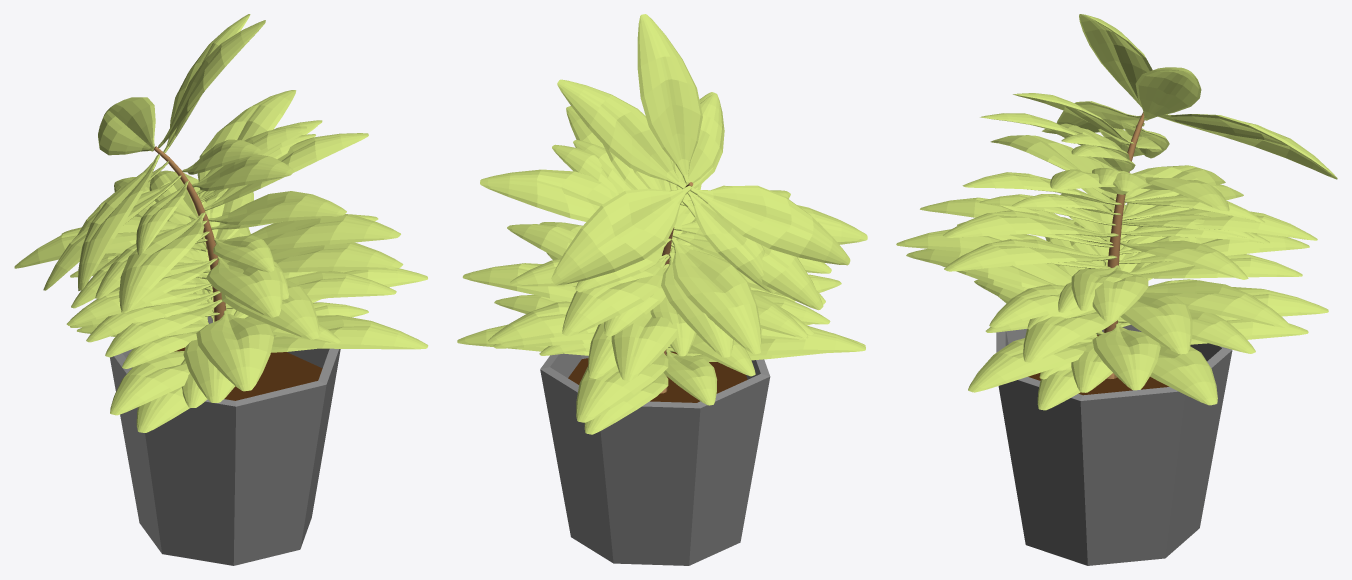
File: Plant.fbx
The picture shows the model from 3 angles, left to right: view 1: azimuth 30°, elevation 25°; view 2: azimuth 150°, elevation 25°; view 3: azimuth 270°, elevation 25°; orthographic projection. The views are drawn at different scales.
Visible parts, largest first — view 1: Pflanze; view 2: Pflanze; view 3: Pflanze.
Boxes of the visible parts, <box> form: Pflanze: <box>14,14,428,565</box>; Pflanze: <box>457,14,867,565</box>; Pflanze: <box>896,14,1337,565</box>.
Size of the model in its own units: 115 by 166 by 126.
